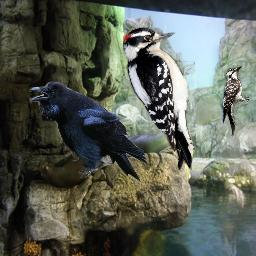Crow: (29, 81, 148, 184)
Woodpecker: (123, 27, 195, 170), (220, 64, 249, 137)
